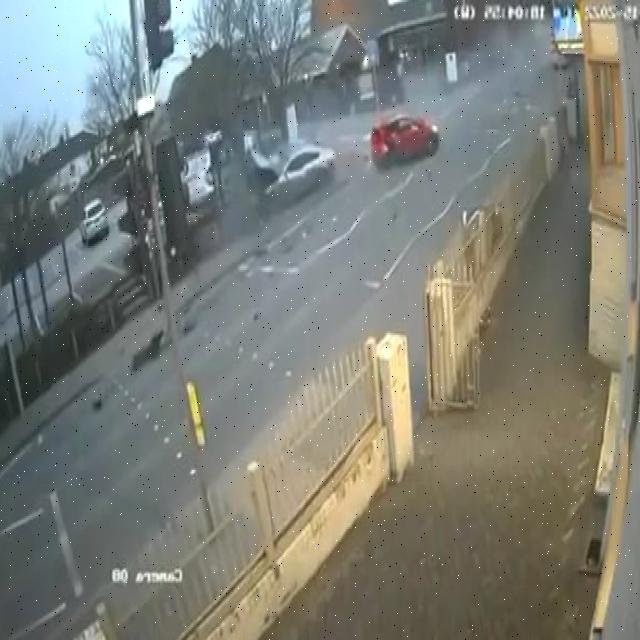accident: (241, 100, 452, 226)
